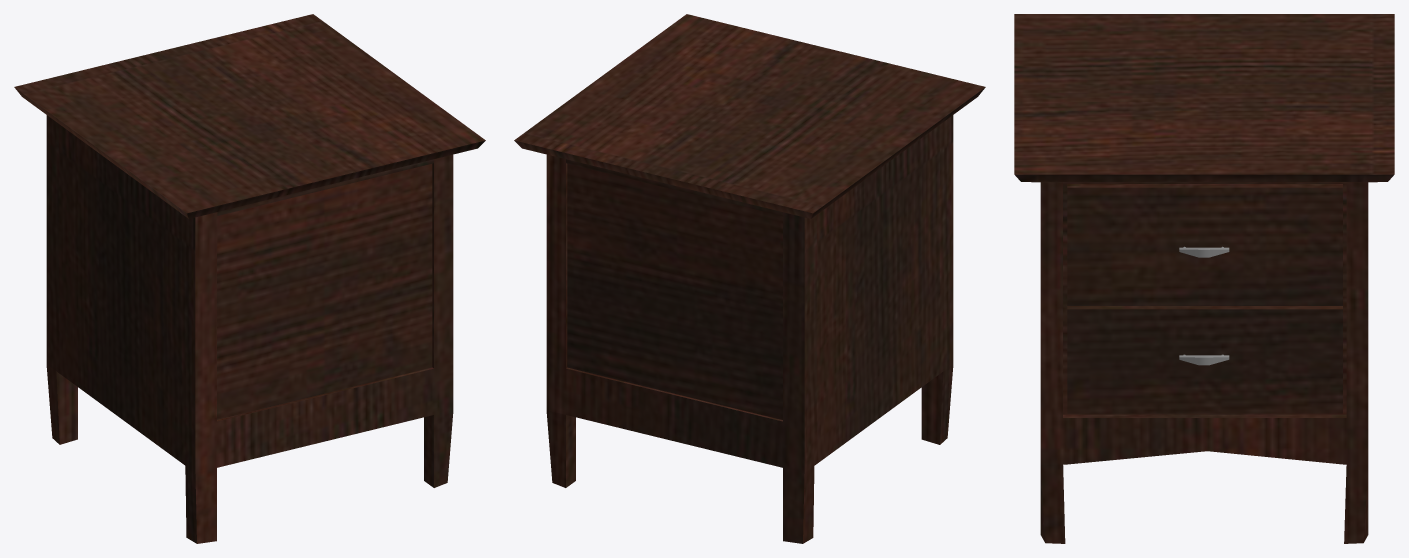
The model's file is Dresser.fbx.
3 renders of one model, left to right at view 1: azimuth 30°, elevation 25°; view 2: azimuth 150°, elevation 25°; view 3: azimuth 270°, elevation 25°, orthographic. The views are drawn at different scales.
Visible parts, largest first — view 1: polySurface3; view 2: polySurface3; view 3: polySurface3.
Part boxes in pixels (box(x1,y1,x2,y2)): polySurface3: box(14, 14, 485, 543); polySurface3: box(514, 14, 985, 543); polySurface3: box(1014, 14, 1394, 543).
Bounding box in the file's own units: 1.16 × 1.28 × 1.16.
